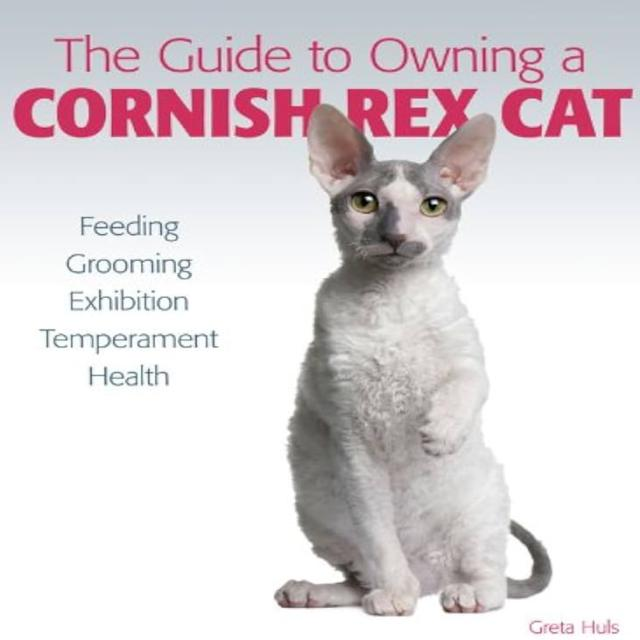Cornish Rex: (268, 100, 558, 620)
